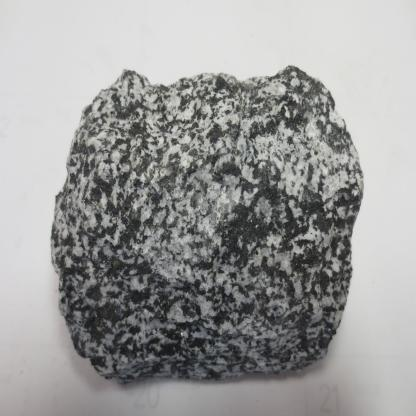Igneous_Diorite: (41, 60, 368, 388)
